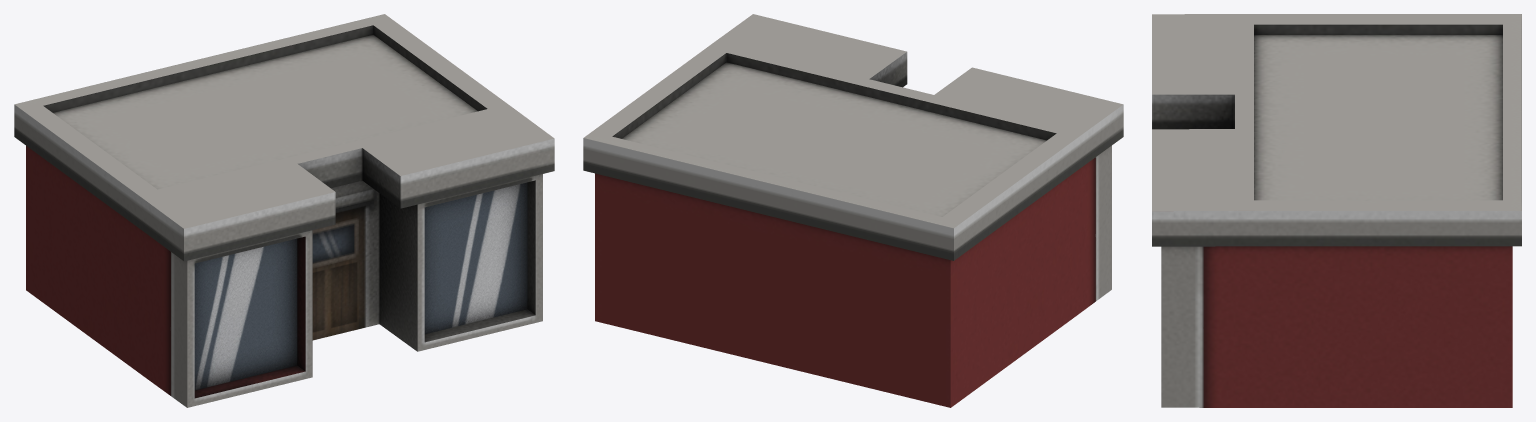
File: House_Store2WindowsDoor.FBX
3 renders of one model, left to right at view 1: azimuth 30°, elevation 25°; view 2: azimuth 150°, elevation 25°; view 3: azimuth 270°, elevation 25°, orthographic. The views are drawn at different scales.
Visible parts, largest first — view 1: Base001; view 2: Base001; view 3: Base001.
Boxes of the visible parts, x1,y1,x2,y2 form: Base001: (14,14,554,407); Base001: (583,14,1123,407); Base001: (1152,14,1521,407).
Size of the model in its own units: 521 by 248 by 413.
